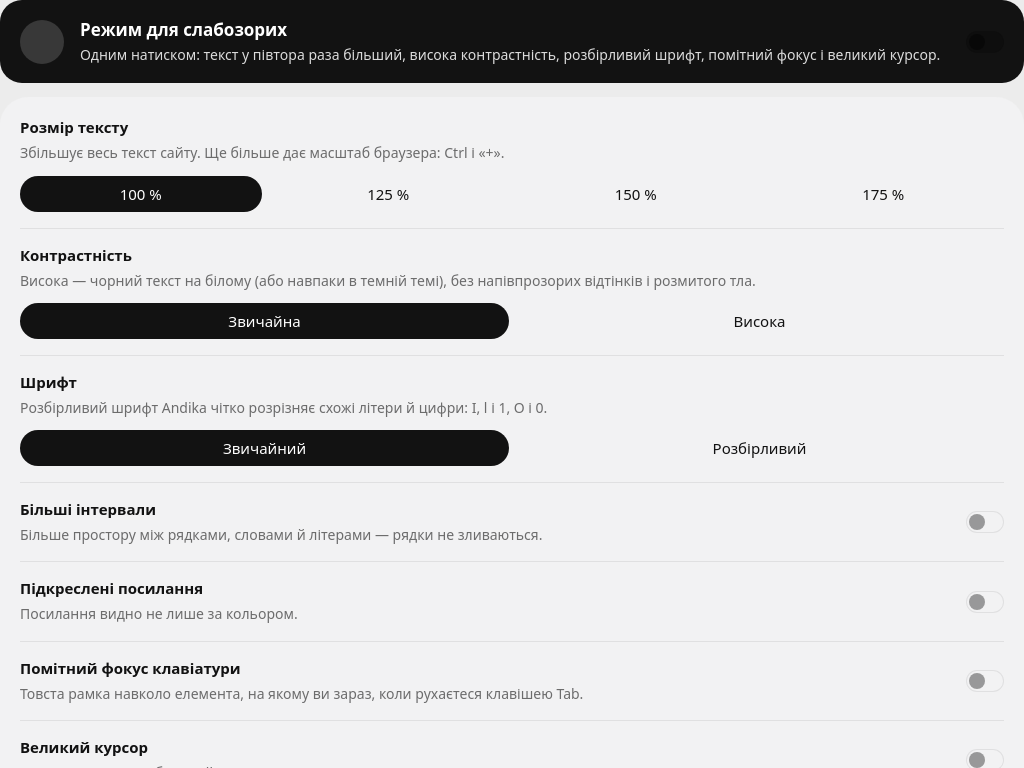
панель «Зручність для зору» › окремі опції змінюються незалежно, а «Скинути все» повертає звичайний вигляд
The width and height of the screenshot is (1024, 768).
Click the radio button labelled "125 %" at (388, 194), box [268, 176, 509, 212]
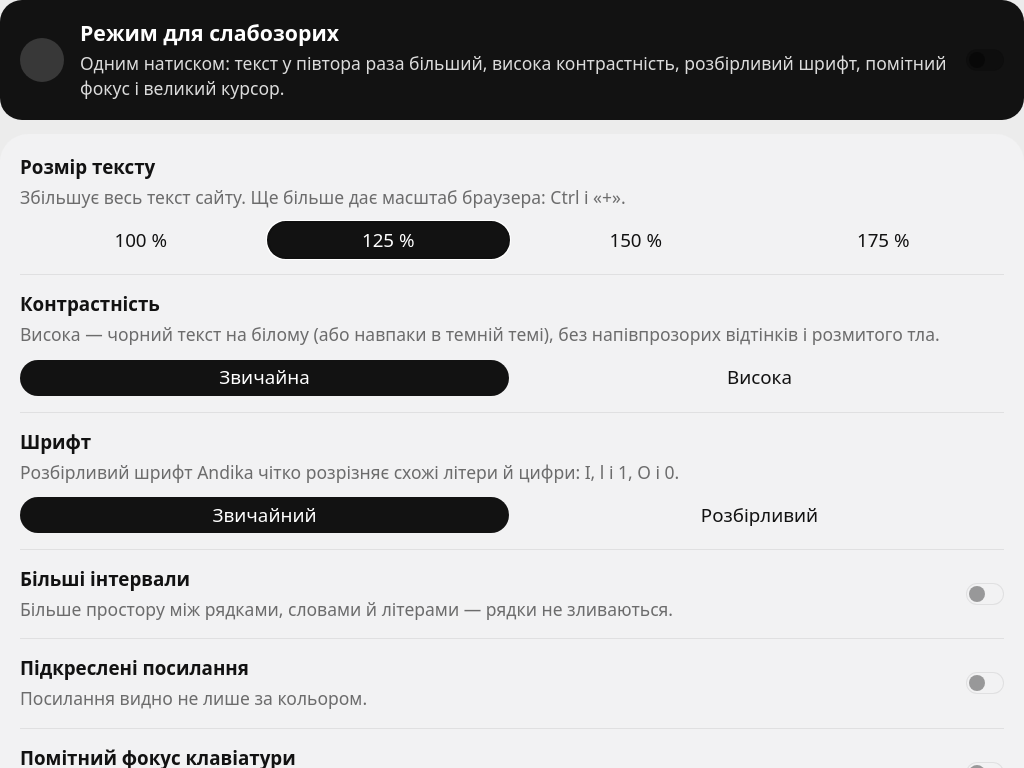
Click the switch labelled "Підкреслені посилання Посилання видно не лише за кольором." at (985, 683), box [966, 672, 1004, 694]
(page scrolled)
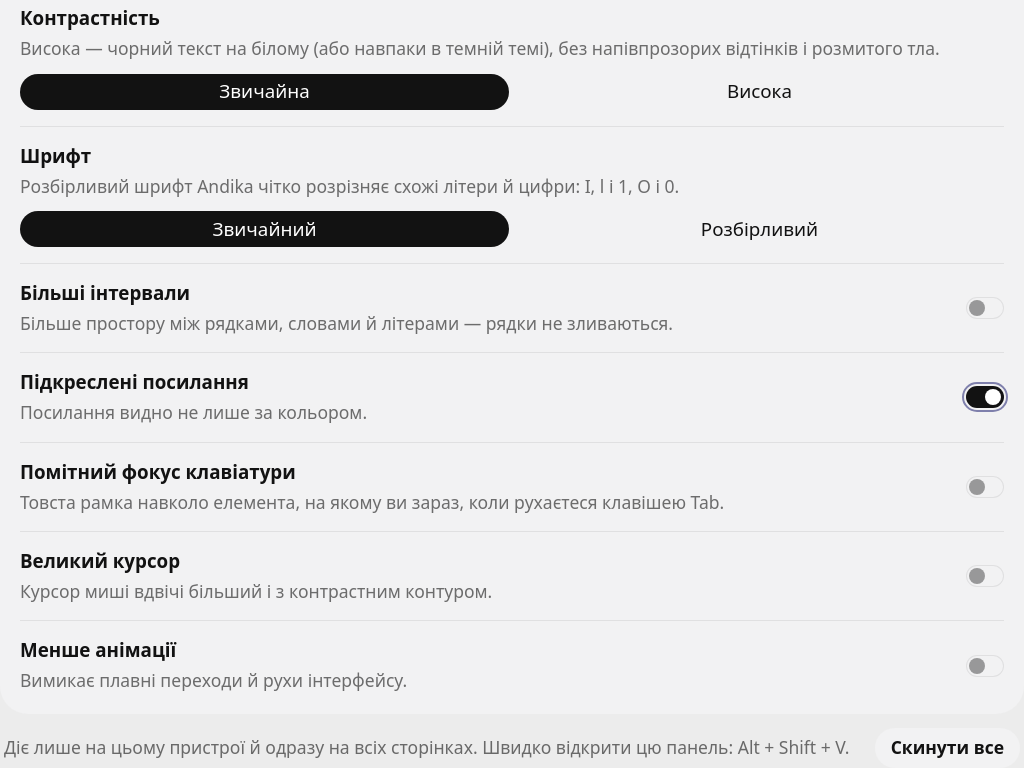
Click the button "Скинути все" at (947, 748), box [875, 728, 1020, 767]
(page scrolled)
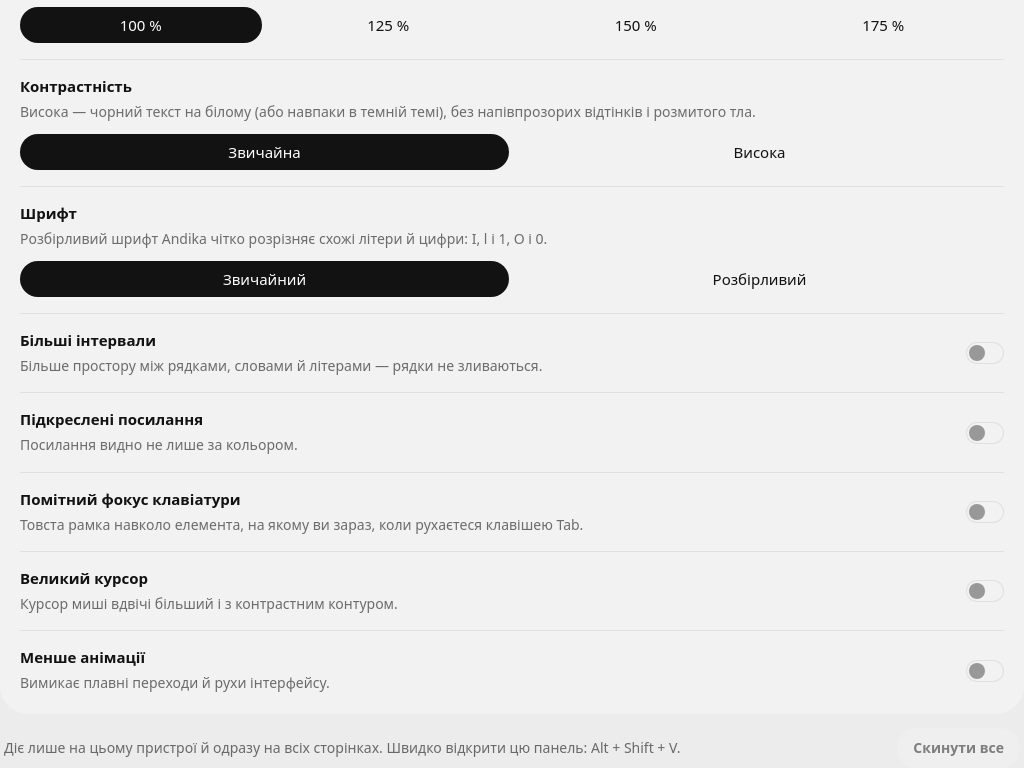
Check: the button "Скинути все" is disabled, box [897, 728, 1020, 767]
